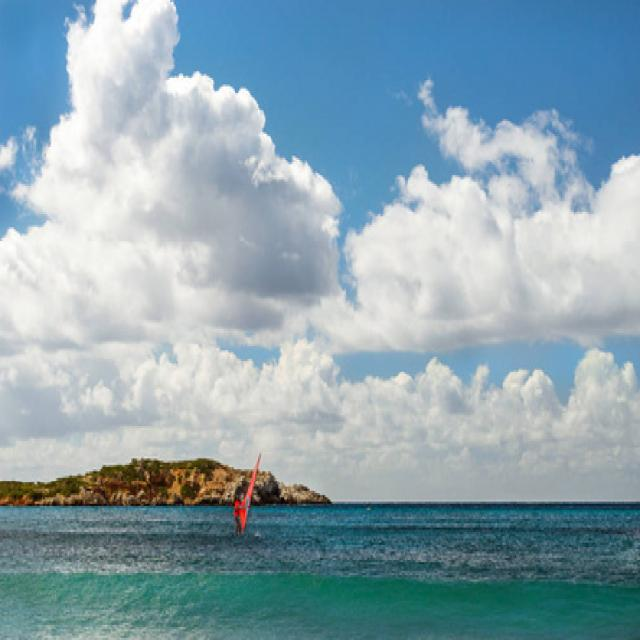island: (0, 428, 329, 517)
